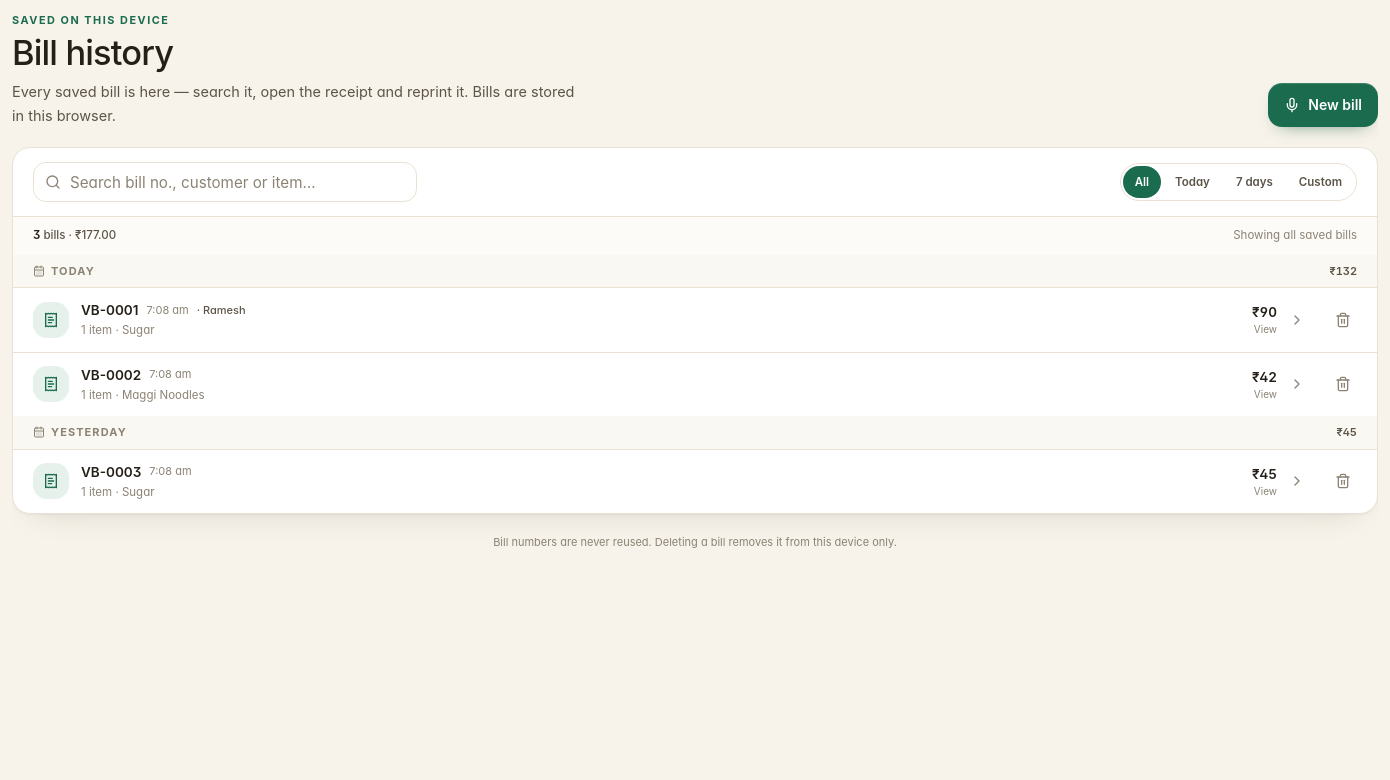
bill history › filters by date range and clears the filters
Expected: the text "VB-0001" is shown, [81, 300, 138, 320]
Click the button "Today".
click(1192, 182)  # box [1163, 166, 1222, 198]
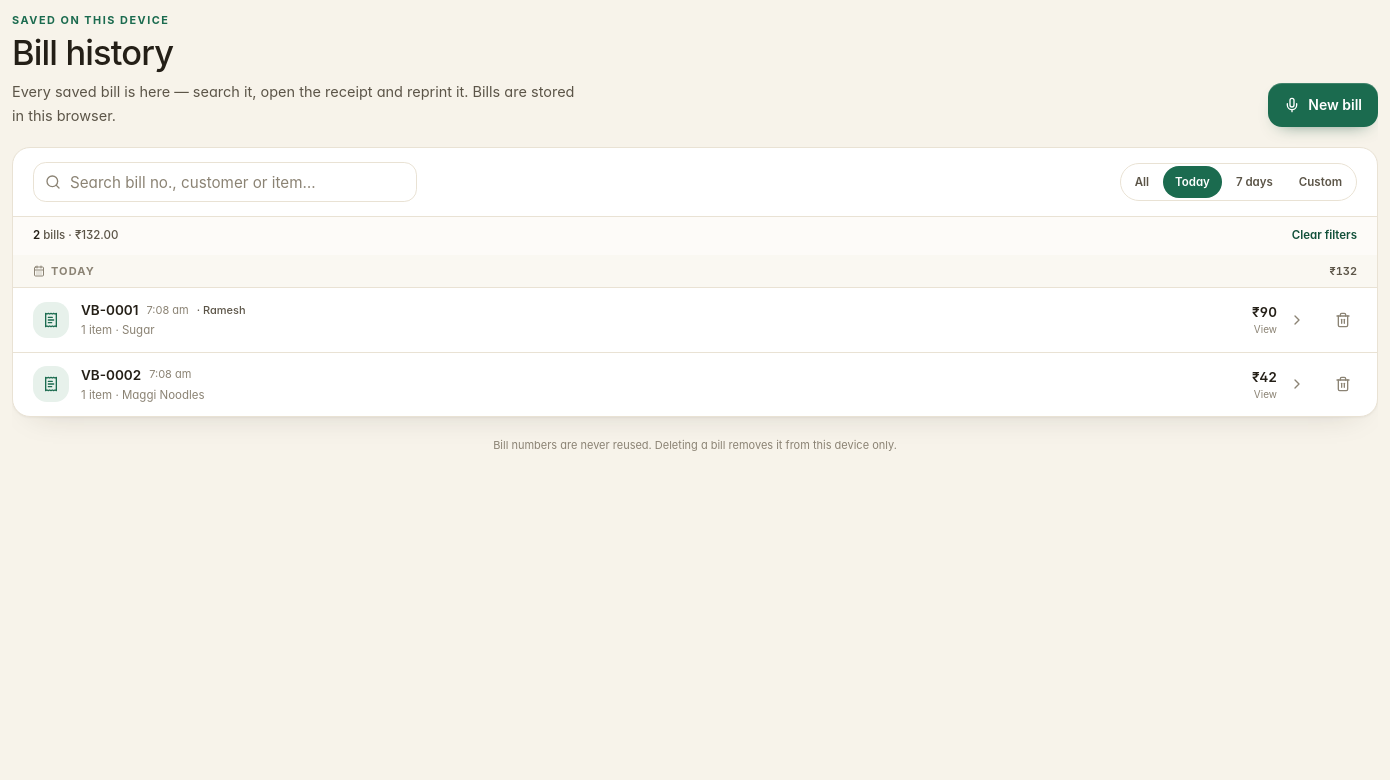
Expected: the text "VB-0001" is shown, [81, 300, 138, 320]
Expected: the button "VB-0003" is gone
Click the button "7 days".
click(1254, 182)  # box [1224, 166, 1285, 198]
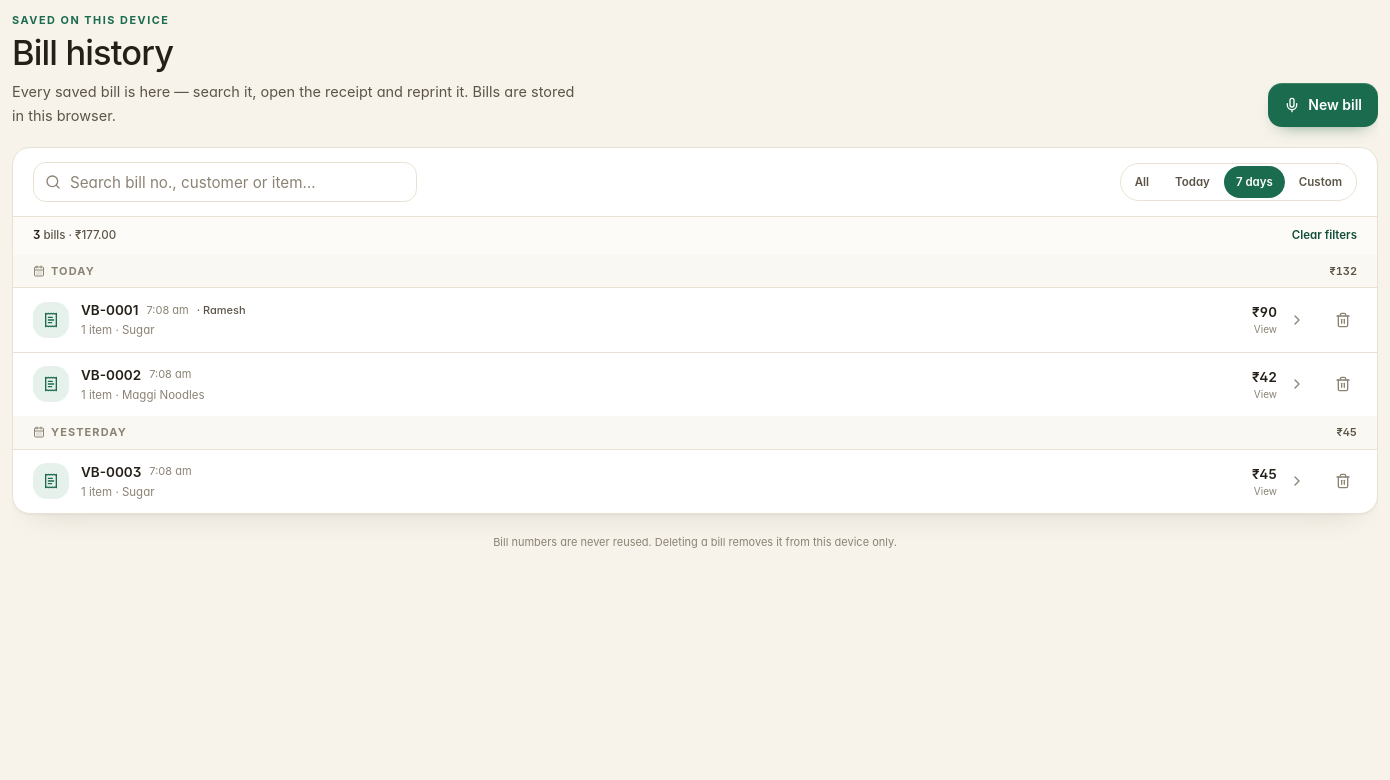
Expected: the text "VB-0003" is shown, [81, 462, 141, 482]
Click the button "All".
click(1142, 182)  # box [1123, 166, 1161, 198]
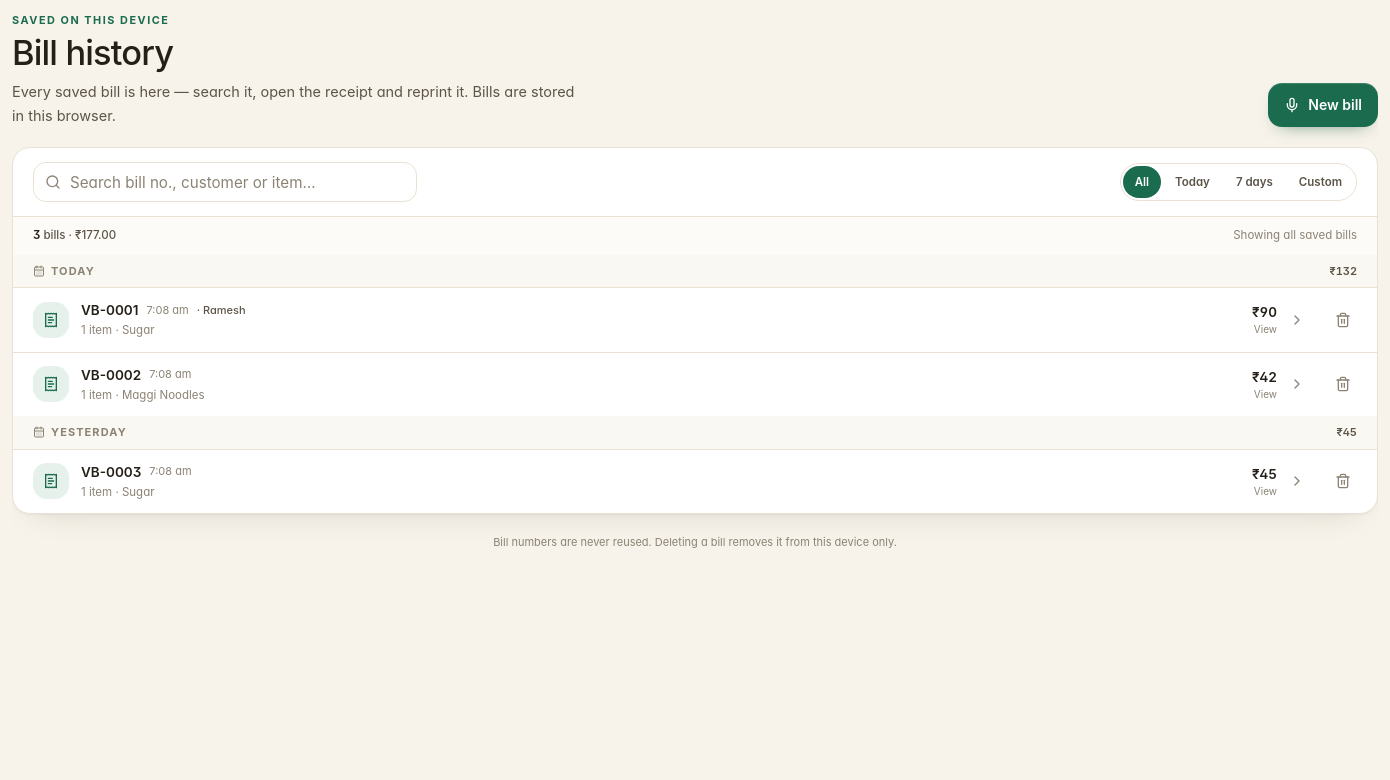
Expected: the text "Showing all saved bills" is shown, [1233, 227, 1357, 245]
